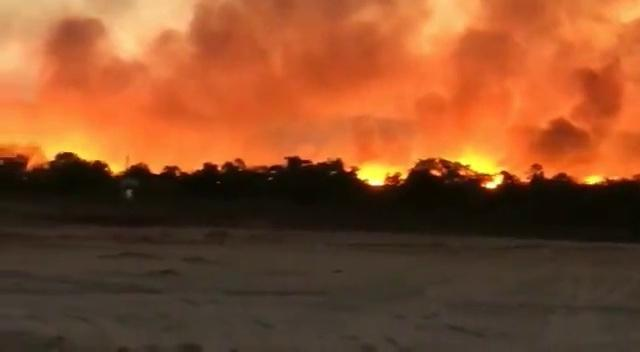fire: (459, 155, 505, 188), (359, 164, 411, 188)
